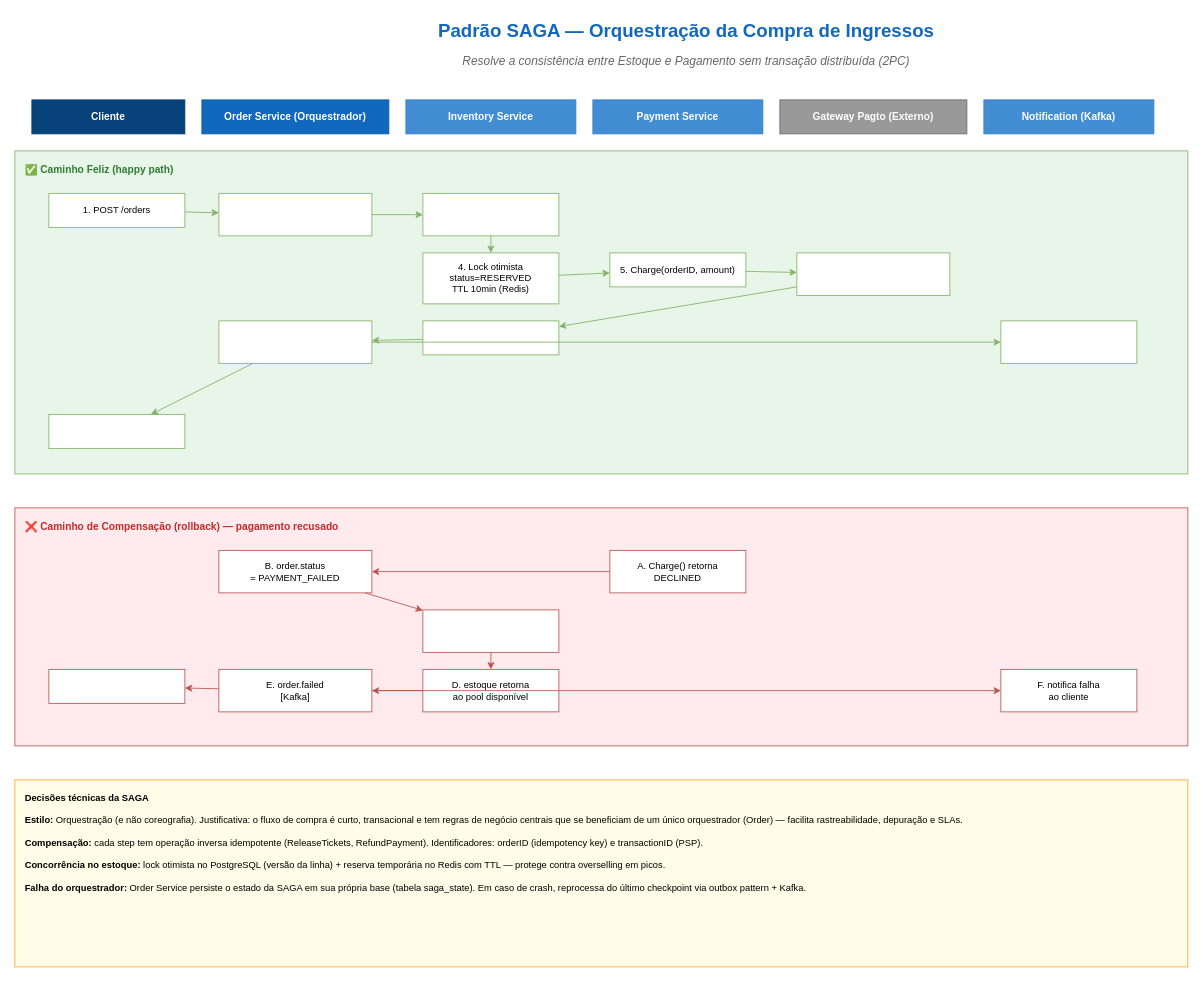
This 1203x982 diagram has some shape labels left out. The centre of each missing label's shape, as x and y in pixels:
"10. 201 Created" goes at [116,431].
"2. cria Order status=PENDING" goes at [295,214].
"3. ReserveTickets(orderID)" goes at [490,214].
"6. ✓ via Strategy (Cartão / PIX)" goes at [873,273].
"7. ConfirmReservation" goes at [490,337].
"8. order.confirmed [Kafka]" goes at [295,341].
"9. envia ingresso por e-mail" goes at [1068,341].
"C. ReleaseTickets (compensação)" goes at [490,630].
"G. 422 Unprocessable" goes at [116,686].
